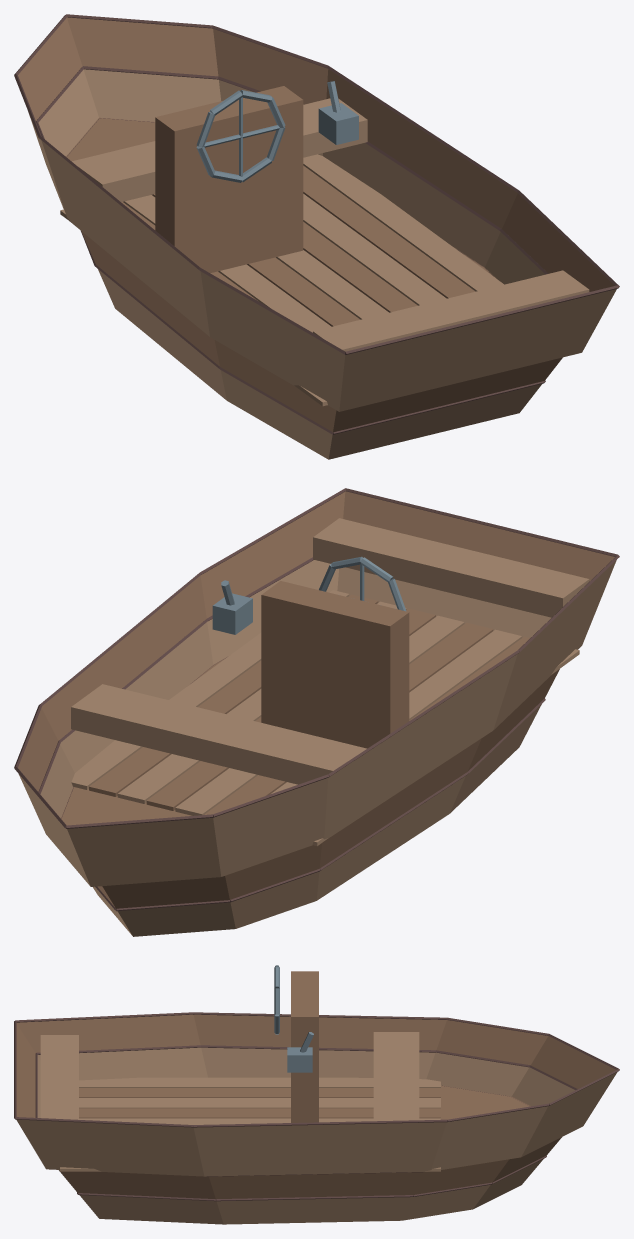
Rendered from FishingBoat.fbx.
3 views of the same model, one above another, from view 1: azimuth 30°, elevation 25°; view 2: azimuth 150°, elevation 25°; view 3: azimuth 270°, elevation 25° (orthographic). The views are drawn at different scales.
Parts seen in each view (by area): view 1: InnerHull, HullPlank3, HelmConsole, HullPlank2, HullPlank0, HullPlank1, SternBench, DeckPlank0, ForwardBench, DeckPlank1, DeckPlank2, DeckPlank3 (+10 smaller); view 2: InnerHull, HullPlank3, HelmConsole, ForwardBench, HullPlank2, SternBench, HullPlank0, HullPlank1, DeckPlank0, DeckPlank1, DeckPlank5, DeckPlank6 (+10 smaller); view 3: InnerHull, HullPlank3, HullPlank2, HullPlank1, HullPlank0, ForwardBench, HelmConsole, SternBench, DeckPlank5, DeckPlank6, DeckPlank8, DeckPlank7 (+11 smaller).
Part boxes in pixels (bbox=[...]): InnerHull: bbox=[28, 113, 616, 411]; HullPlank3: bbox=[18, 17, 614, 291]; HelmConsole: bbox=[155, 86, 303, 273]; HullPlank2: bbox=[38, 69, 544, 284]; HullPlank0: bbox=[98, 269, 541, 459]; HullPlank1: bbox=[81, 231, 562, 432]; SternBench: bbox=[313, 270, 589, 351]; DeckPlank0: bbox=[303, 154, 503, 291]; ForwardBench: bbox=[72, 98, 367, 202]; DeckPlank1: bbox=[303, 165, 475, 298]; DeckPlank2: bbox=[303, 194, 446, 305]; DeckPlank3: bbox=[303, 222, 417, 312]; InnerHull: bbox=[18, 560, 616, 886]; HullPlank3: bbox=[18, 491, 614, 791]; HelmConsole: bbox=[261, 581, 409, 748]; ForwardBench: bbox=[71, 684, 366, 784]; HullPlank2: bbox=[40, 560, 551, 817]; SternBench: bbox=[313, 518, 589, 617]; HullPlank0: bbox=[93, 704, 541, 936]; HullPlank1: bbox=[97, 669, 559, 908]; DeckPlank0: bbox=[71, 590, 349, 789]; DeckPlank1: bbox=[89, 594, 378, 796]; DeckPlank5: bbox=[204, 622, 493, 814]; DeckPlank6: bbox=[271, 629, 522, 793]; InnerHull: bbox=[16, 1072, 617, 1176]; HullPlank3: bbox=[16, 1014, 615, 1117]; HullPlank2: bbox=[37, 1047, 575, 1117]; HullPlank1: bbox=[59, 1137, 561, 1199]; HullPlank0: bbox=[79, 1159, 543, 1224]; ForwardBench: bbox=[373, 1032, 419, 1121]; HelmConsole: bbox=[291, 971, 318, 1122]; SternBench: bbox=[40, 1035, 78, 1119]; DeckPlank5: bbox=[79, 1108, 440, 1118]; DeckPlank6: bbox=[79, 1098, 440, 1108]; DeckPlank8: bbox=[79, 1077, 440, 1087]; DeckPlank7: bbox=[79, 1088, 440, 1097].
Bounding box in the file's own units: 2.12 × 1.71 × 4.77.
